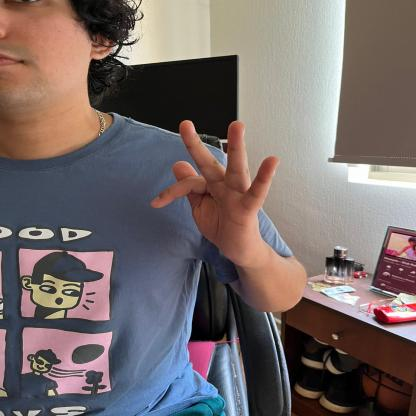F: (145, 113, 281, 269)
